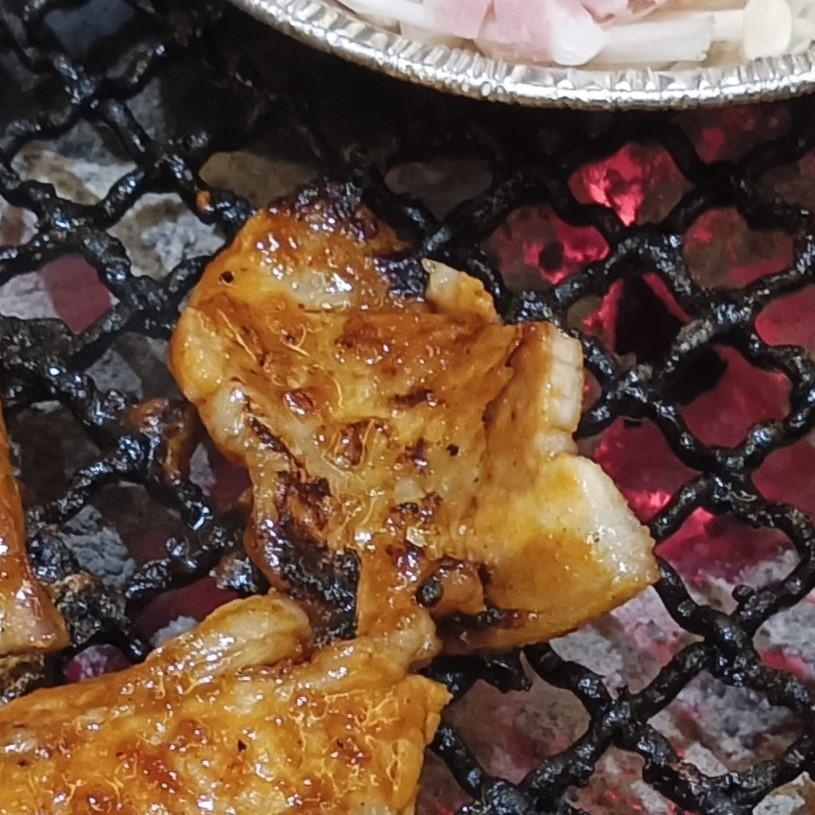Overcooked: (167, 183, 662, 659)
Well-Cooked: (0, 595, 453, 814)
